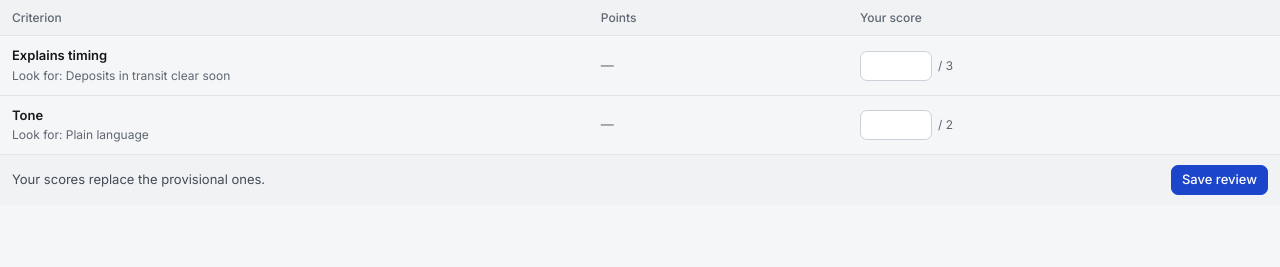
Scenario: RubricReviewForm › shows server errors per field and overall
Type "1" into the number field named "Explains timing" at x=896, y=66, box [860,50,932,80]
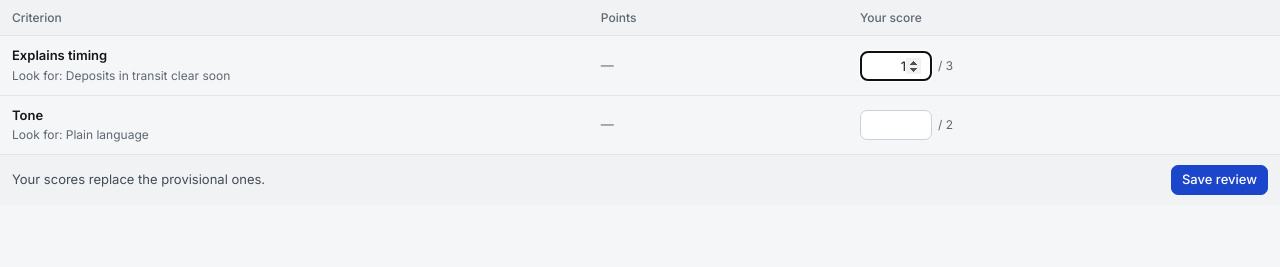
Type "1" into the number field named "Tone" at x=896, y=125, box [860,110,932,140]
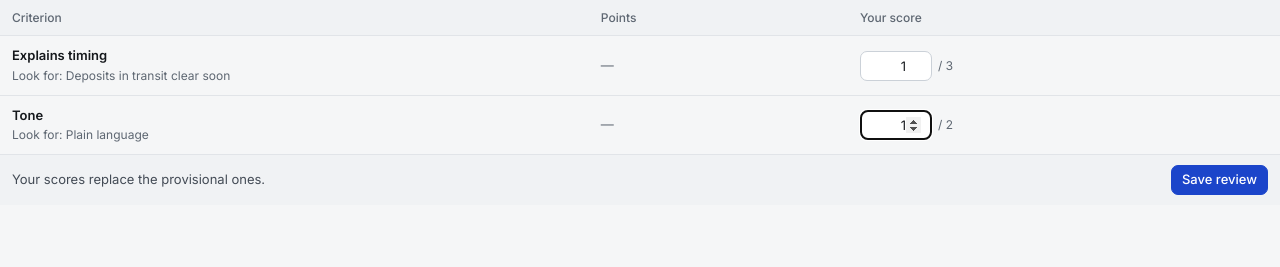
Click the button "Save review" at x=1220, y=180, box [1171,165,1268,195]
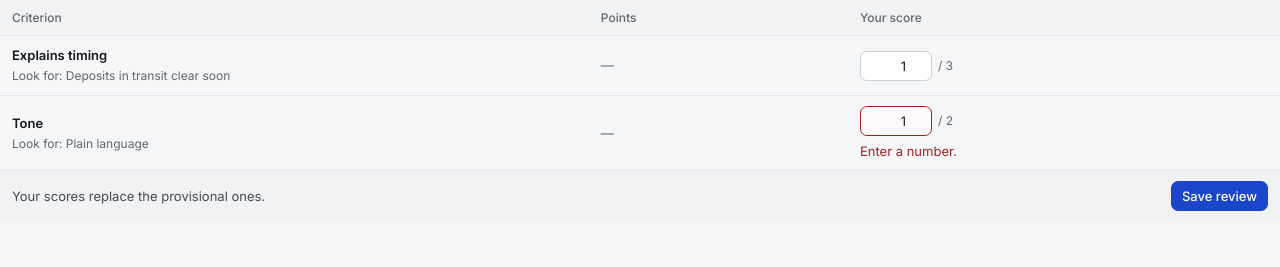
Now the text "Enter a number." is shown, box [860,143,957,159]
Click the button "Save review" at x=1220, y=196, box [1171,182,1268,212]
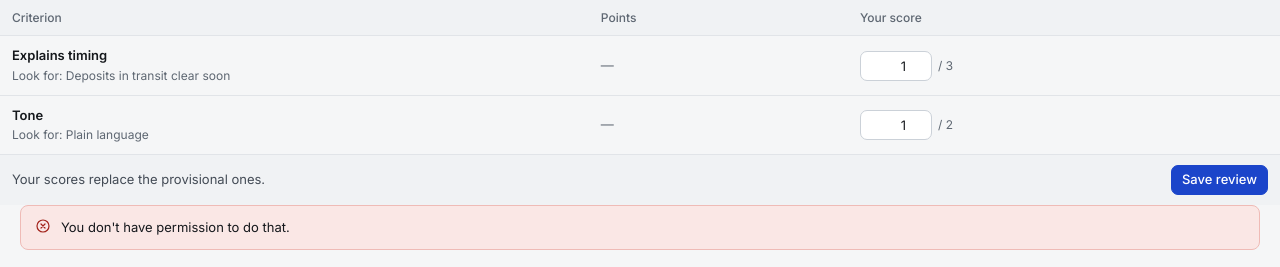
Now the text "You don't have permission to do that." is shown, box [61,218,290,237]
